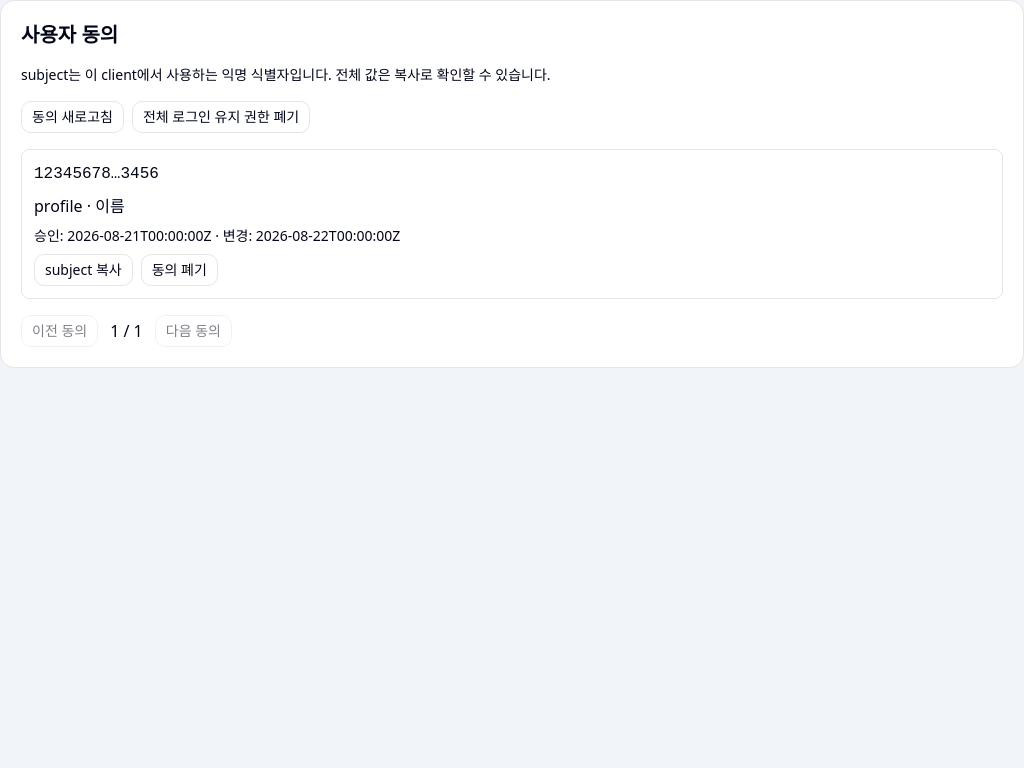
Test: blocks repeated confirmation and ignores pending mutation completion after logout
This screenshot has width=1024, height=768.
Step 1. Click the button "동의 폐기" → (179, 270), box [141, 254, 218, 286]
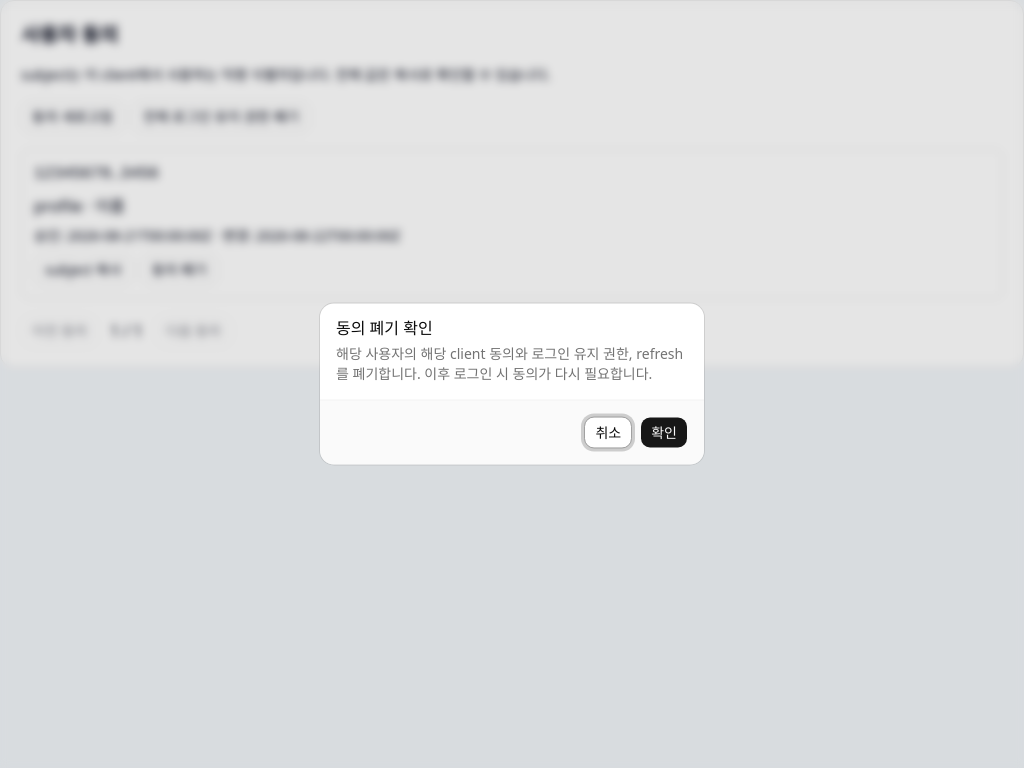
Step 2. Double-click the button with aria-label "폐기 확인" → (664, 432), box [640, 416, 688, 448]
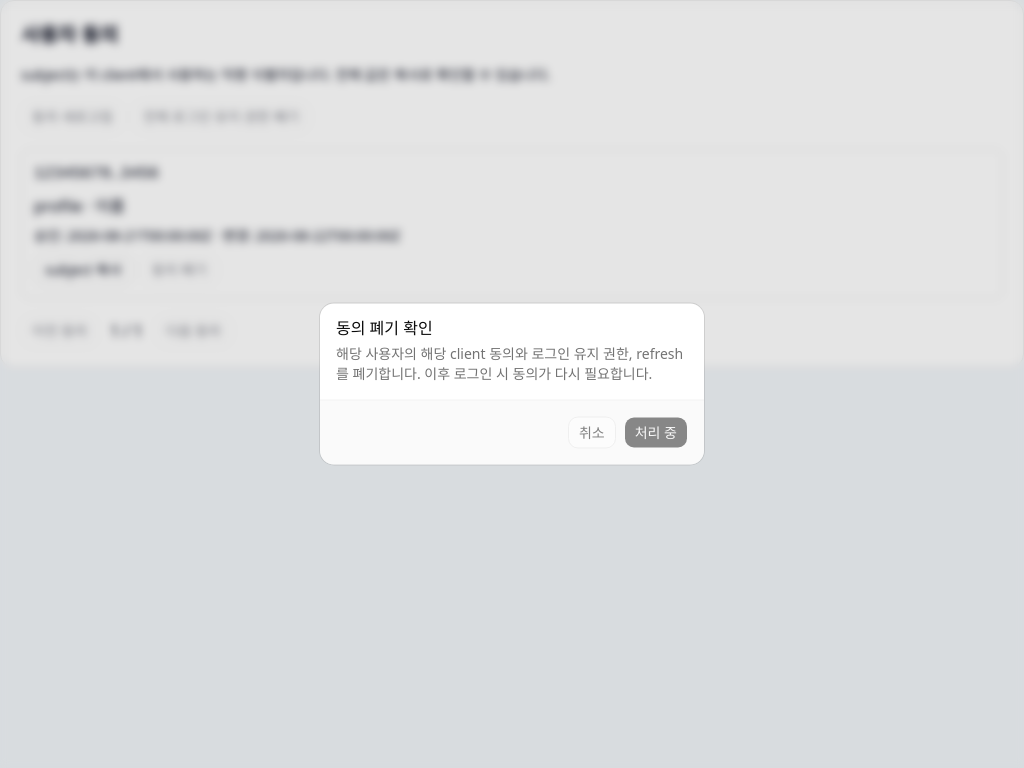
Now the button with aria-label "동의 폐기 확인" is disabled, box [624, 416, 688, 448]
